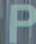Parking: (7, 1, 35, 42)
